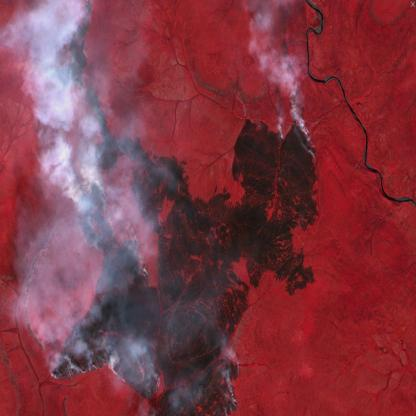fire: (42, 346, 164, 402), (74, 174, 114, 258), (274, 100, 320, 161), (66, 0, 95, 69), (217, 352, 245, 416), (125, 232, 152, 288), (34, 55, 57, 89)
